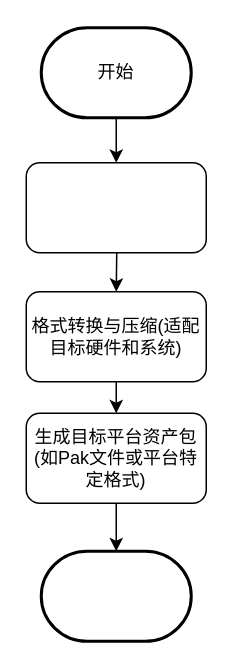
Image size: 233x668. Some labels were removed from this diagram. Here are the shapes that lost their labels. From the top down, the centre of each, then its label:
At pixel 115 207: "分析资产与关系(UBT与UAT确定资源集合)".
At pixel 115 595: "结束".
